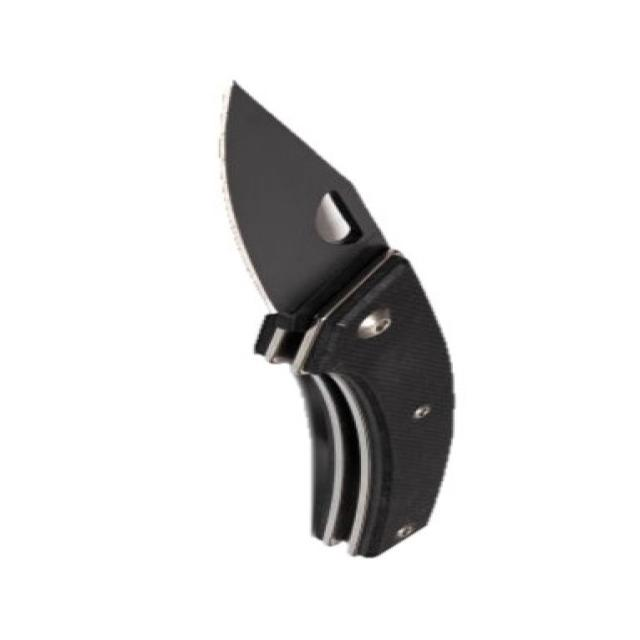knife: (206, 74, 502, 575)
